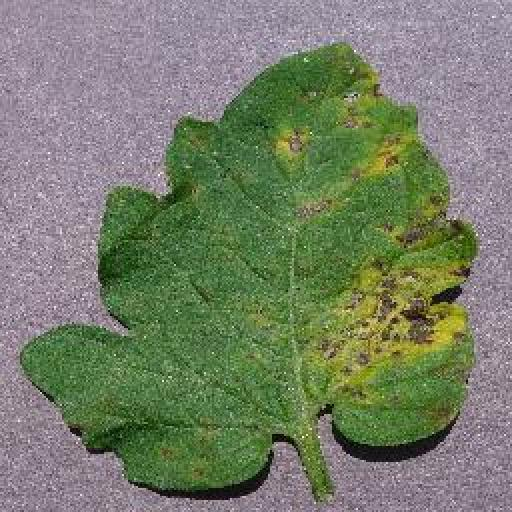Septoria: (22, 40, 479, 495)
